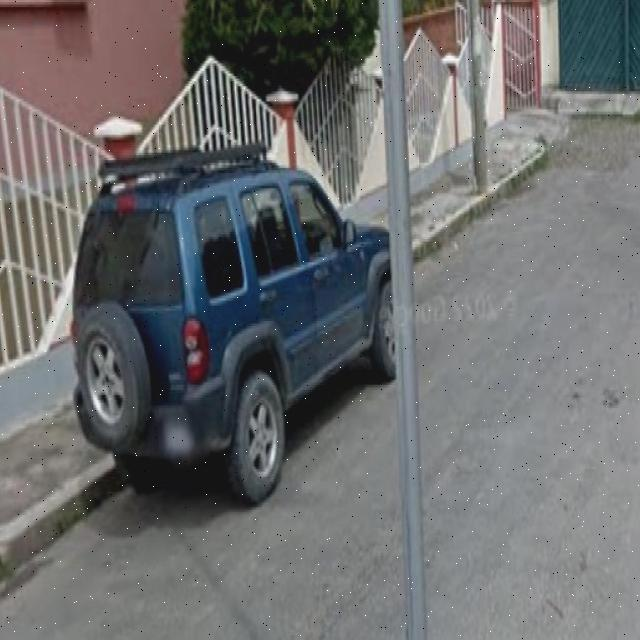car: (67, 87, 389, 507)
